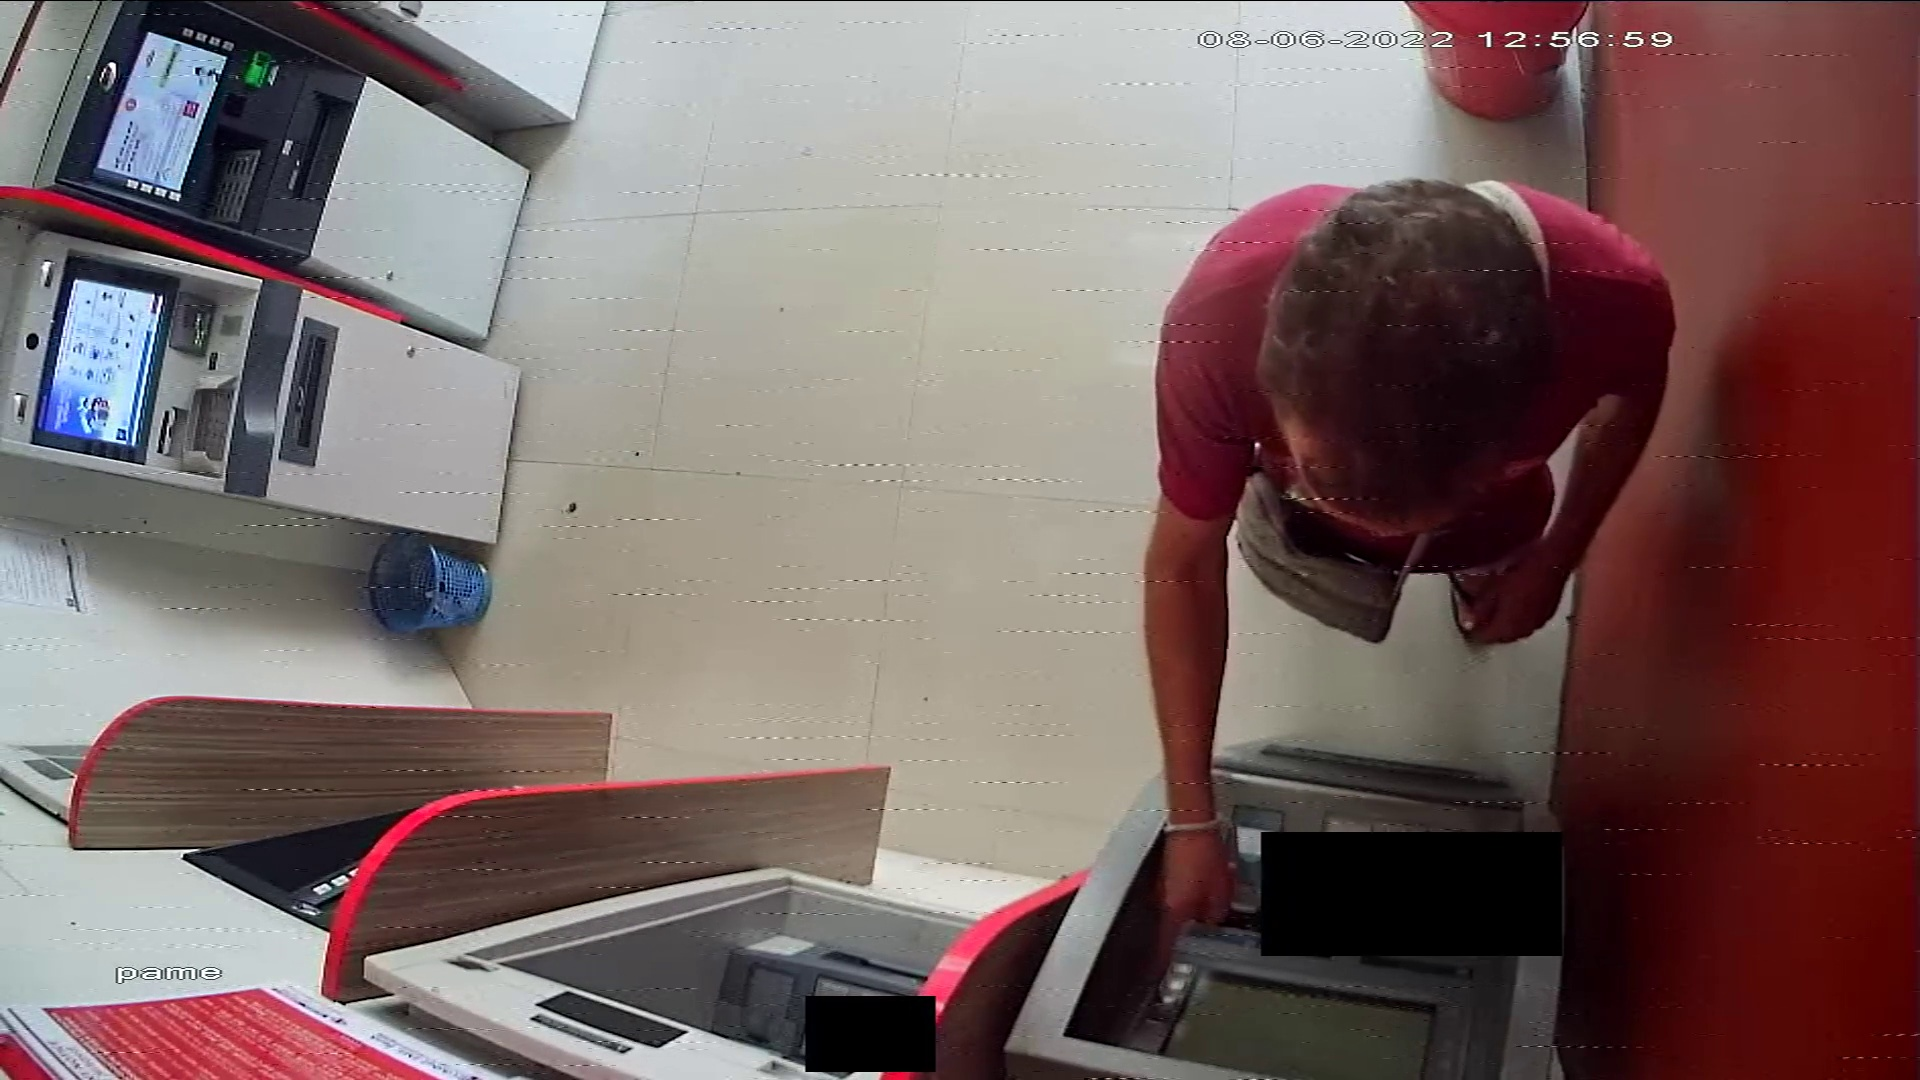person: (1139, 168, 1682, 968)
